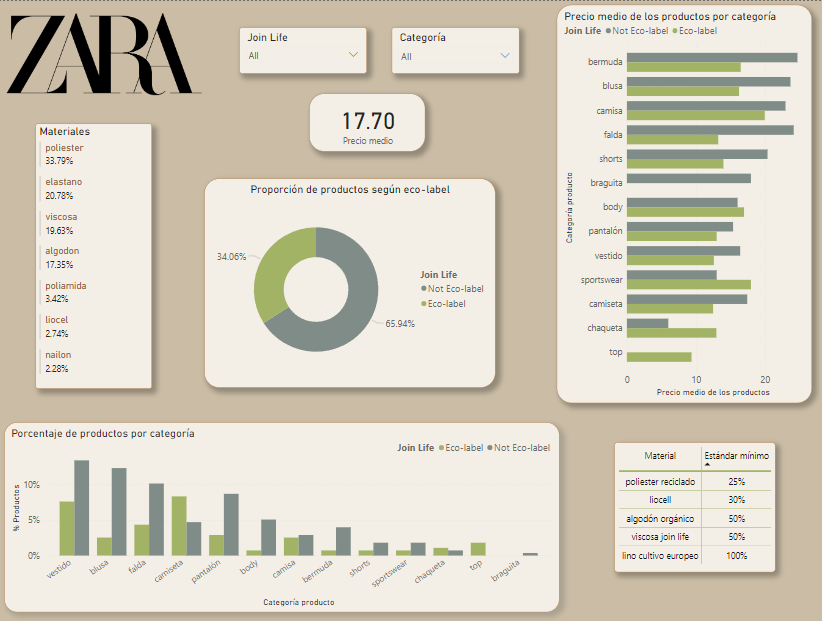

What the dashboard file says about the page in this screenshot:
{"tool":"powerbi","page":{"name":"Dashboard","canvas":[1650,1250],"ordinal":3},"visuals":[{"type":"slicer","fields":{"Values":["items.join_life"]},"box":[482.5,52.5,255,92.5],"z":0},{"type":"multiRowCard","title":"Materiales","fields":{"Values":["composition_ecolabel.material","CountNonNull(composition_ecolabel.material)"]},"box":[75,245,232.5,530],"z":1000},{"type":"card","fields":{"Values":["Avg(items.item_price)"]},"box":[622,186,232,116],"z":2000},{"type":"clusteredColumnChart","title":"Porcentaje de productos por categoría","fields":{"Category":["items.item_category"],"Y":["Divide(CountNonNull(items.item_category), ScopedEval(CountNonNull(items.item_category), []))"],"Series":["items.join_life"]},"box":[12.5,842.5,1110,380],"z":3000},{"type":"donutChart","title":"Proporción de productos según eco-label","fields":{"Y":["CountNonNull(items.item_code)"],"Category":["items.join_life"]},"box":[412,356,582,418],"z":4000},{"type":"clusteredBarChart","title":"Precio medio de los productos por categoría","fields":{"Category":["items.item_category"],"Y":["Avg(items.item_price)"],"Series":["items.join_life"]},"box":[1116.7,6.7,510,796.7],"z":5000},{"type":"slicer","fields":{"Values":["items.item_category"]},"box":[787.5,52.5,255,92.5],"z":6000},{"type":"tableEx","fields":{"Values":["estandares_min_eco.Material","estandares_min_eco.Estándar mínimo Eco-Label"]},"box":[1232.5,882.5,322.5,260],"z":7000},{"type":"image","box":[13.3,6.7,400,196.7],"z":8000}]}

Visuals, with their boxes in screenshot pixels (x1, y1, x2, y2), scaled from the page's 1650x1250 canvas onto the 822x621 screenshot:
slicer - items.join_life: BBox(240, 26, 367, 72)
"Materiales" multiRowCard: BBox(37, 122, 153, 385)
card - Avg(items.item_price): BBox(310, 92, 425, 150)
"Porcentaje de productos por categoría" clusteredColumnChart: BBox(6, 419, 559, 607)
"Proporción de productos según eco-label" donutChart: BBox(205, 177, 495, 385)
"Precio medio de los productos por categoría" clusteredBarChart: BBox(556, 3, 810, 399)
slicer - items.item_category: BBox(392, 26, 519, 72)
tableEx - estandares_min_eco.Material x estandares_min_eco.Estándar mínimo Eco-Label: BBox(614, 438, 775, 568)
image: BBox(7, 3, 206, 101)
